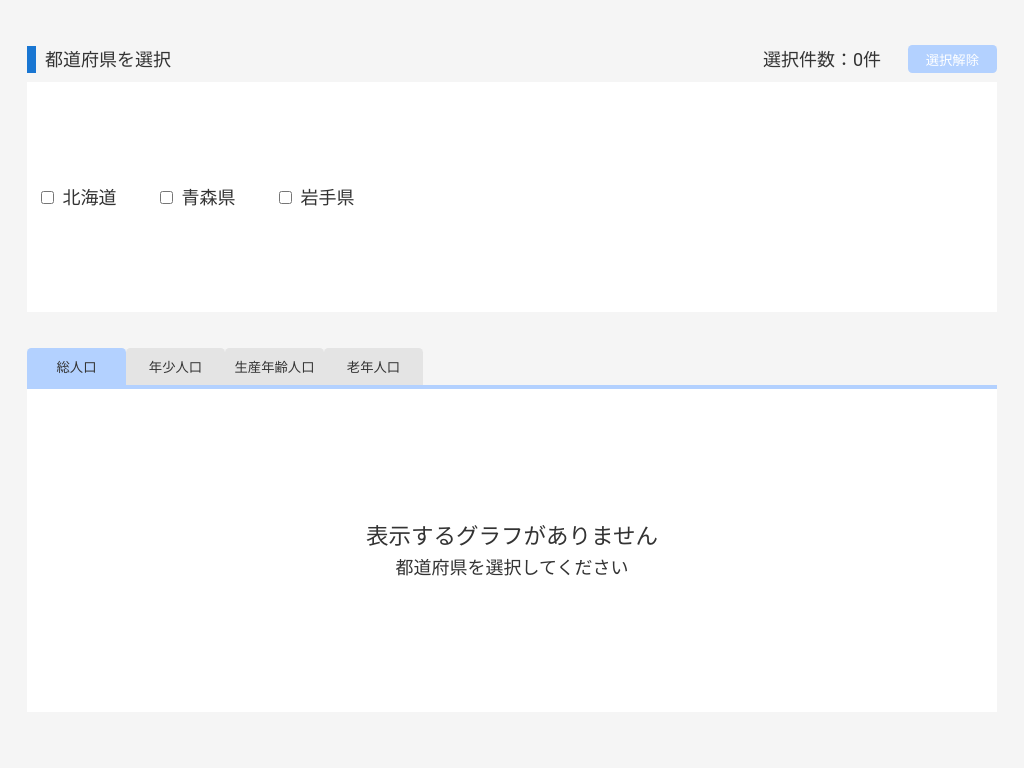
Scenario: PopulationTrendGraph Component › Checkbox interactions › adds a new prefecture when an unchecked checkbox is clicked
This screenshot has width=1024, height=768.
Click the checkbox labelled "岩手県".
click(285, 197)  # box [278,191,292,204]
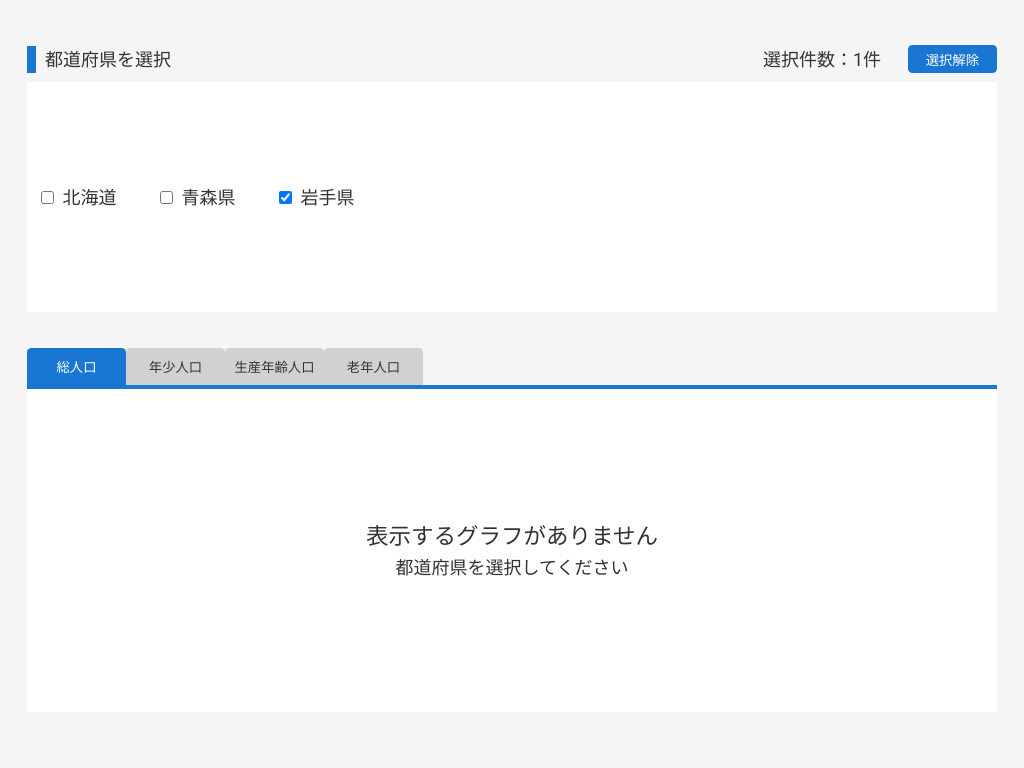
expect the text "選択件数：1件" is shown: met, box [763,46,881,72]
